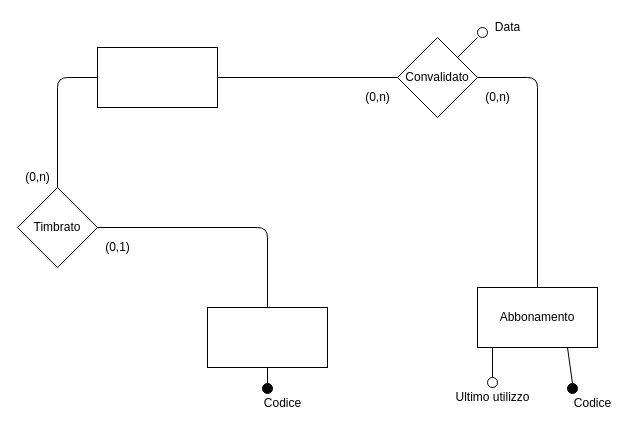
The diagram is 635 pixels wide and 430 high, and some of its shapes have lost their labels. The shapes that lost their labels are listed below. From the top down, each one's box as (x1, y1, x2, y2) in pixels, then its label:
(96, 46, 218, 108): Veicolo
(206, 306, 328, 368): Biglietto
